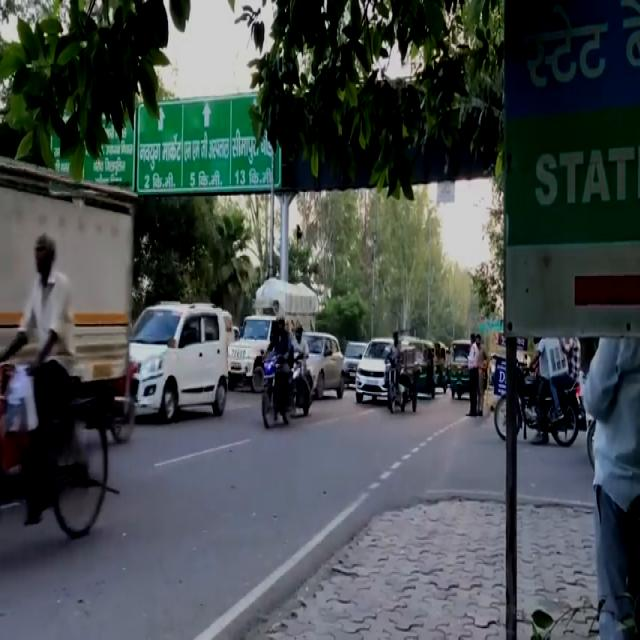MOTORCYCLE: (495, 366, 578, 446)
TRUCK: (227, 282, 319, 385)
